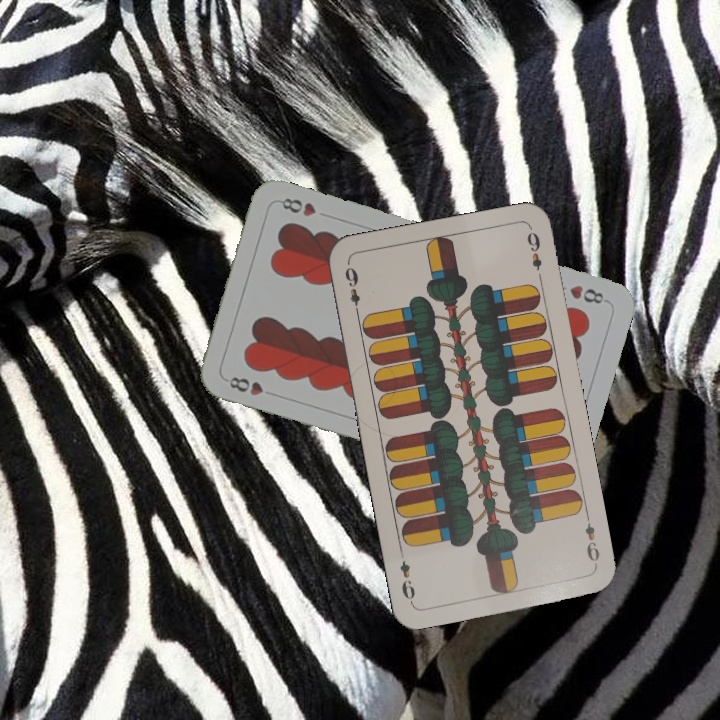E9: (340, 263, 363, 319), (581, 511, 602, 570)
H8: (565, 281, 611, 307), (225, 372, 266, 398)
